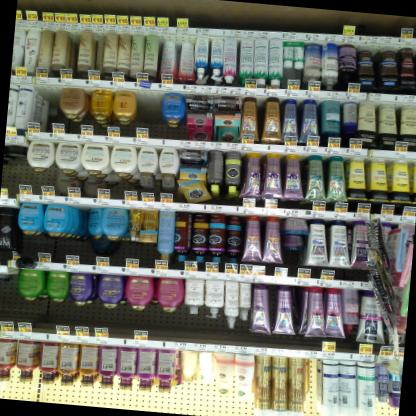empty_space: (138, 90, 164, 128), (49, 86, 60, 112)
